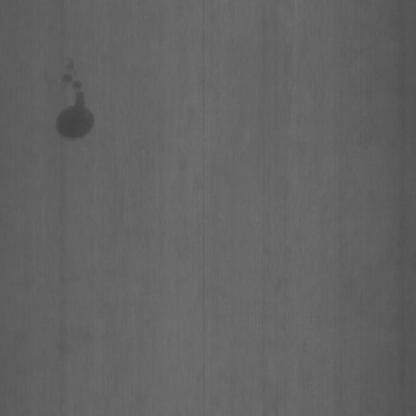oil_spot: (45, 59, 100, 152)
